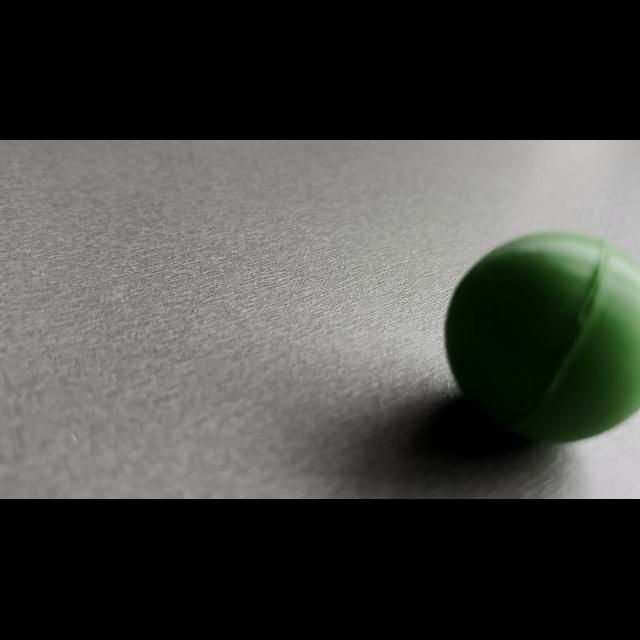objects: (440, 218, 640, 454)
